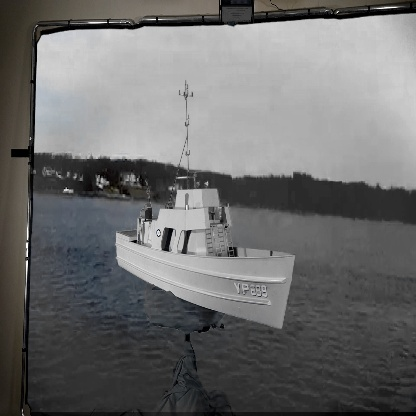YP689: (113, 75, 296, 331)
